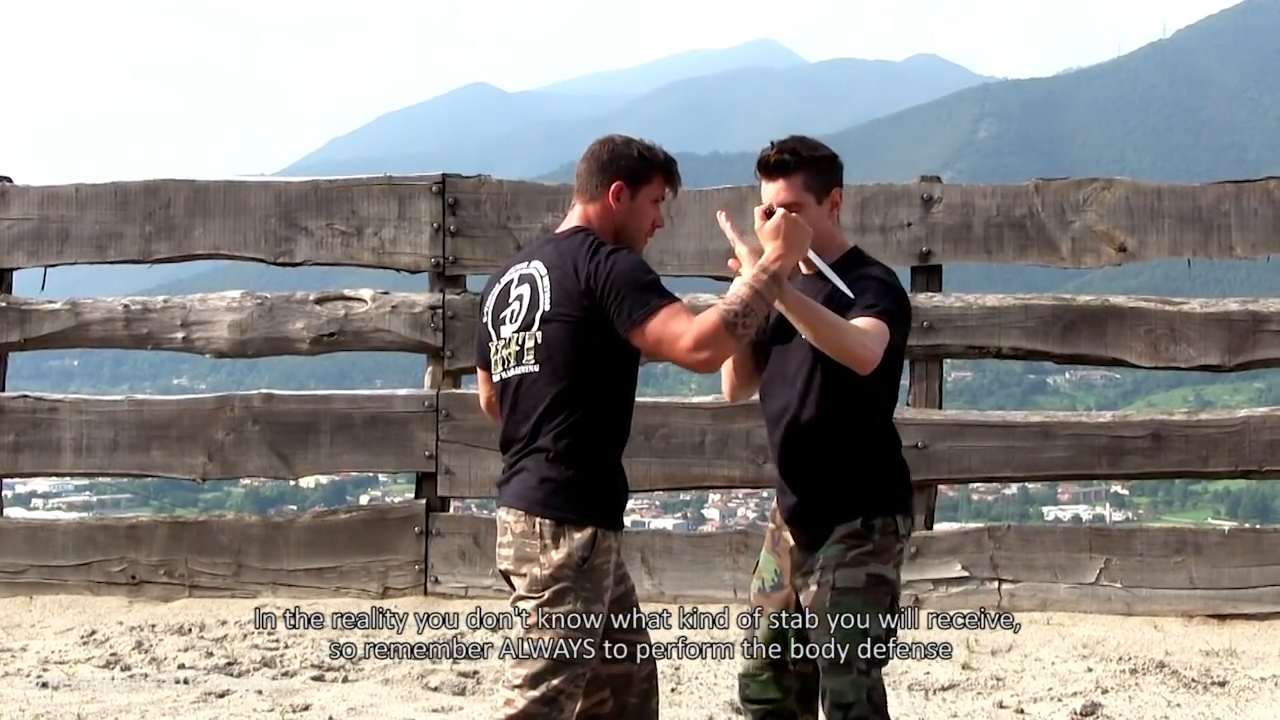knife: (752, 200, 858, 303)
